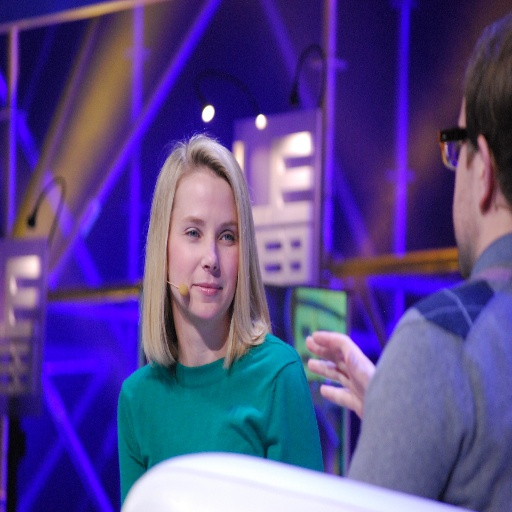hand: (297, 331, 385, 421)
